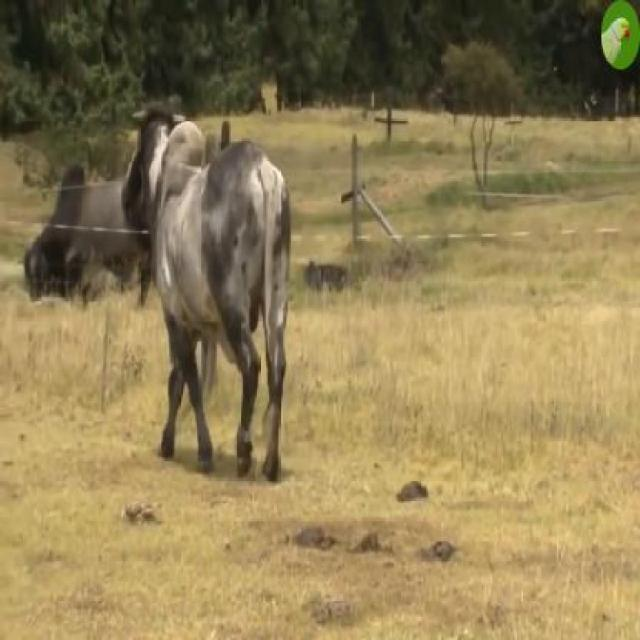Cow: (122, 109, 290, 483)
